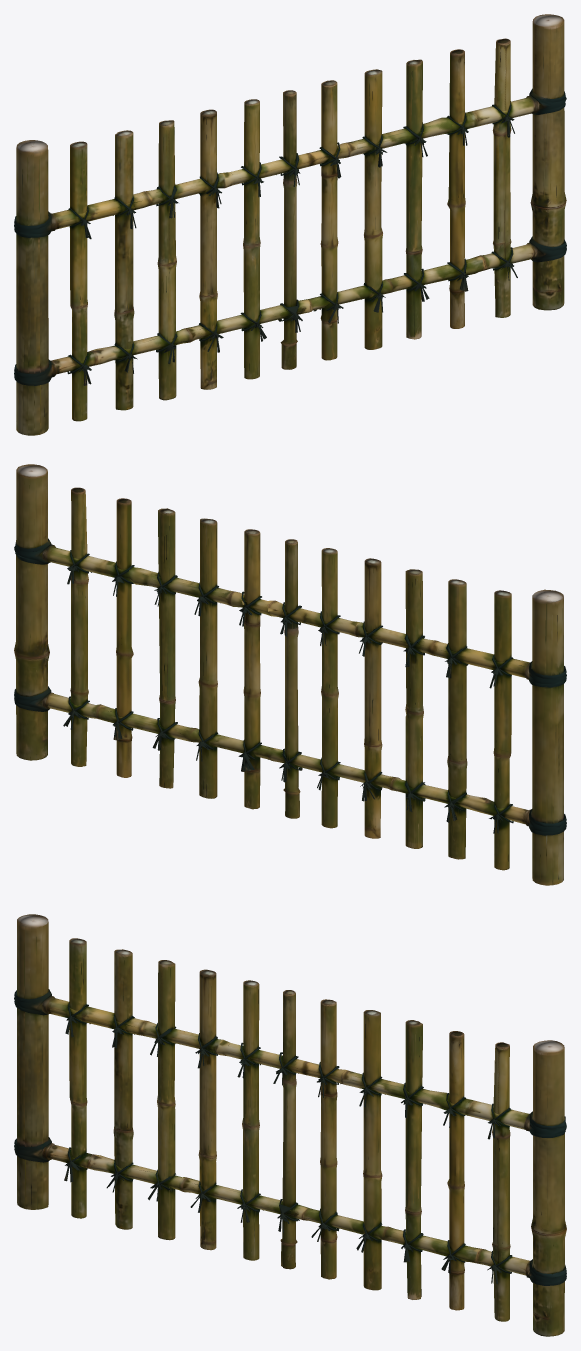
The model's file is bamboo_fence.glb.
3 views of the same model, one above another, from view 1: azimuth 30°, elevation 25°; view 2: azimuth 150°, elevation 25°; view 3: azimuth 330°, elevation 25° (orthographic).
Visible parts, largest first — view 1: geometry_0; view 2: geometry_0; view 3: geometry_0.
Part boxes in pixels (x1=…): geometry_0: x1=14, y1=14, x2=566, y2=435; geometry_0: x1=14, y1=464, x2=566, y2=885; geometry_0: x1=14, y1=914, x2=566, y2=1336.
Size of the model in its own units: 0.9575 by 0.4731 by 0.0654.
1 material, 1 textured.
